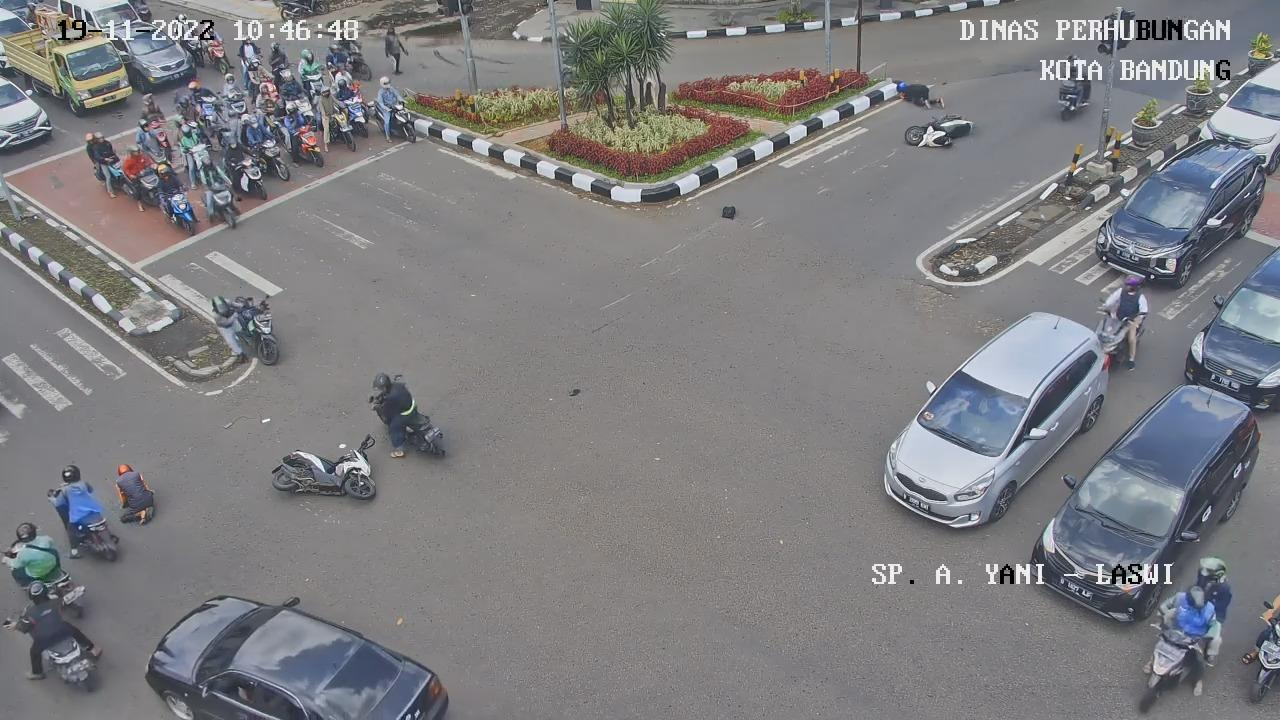accident: (102, 445, 167, 537), (896, 80, 946, 110)
